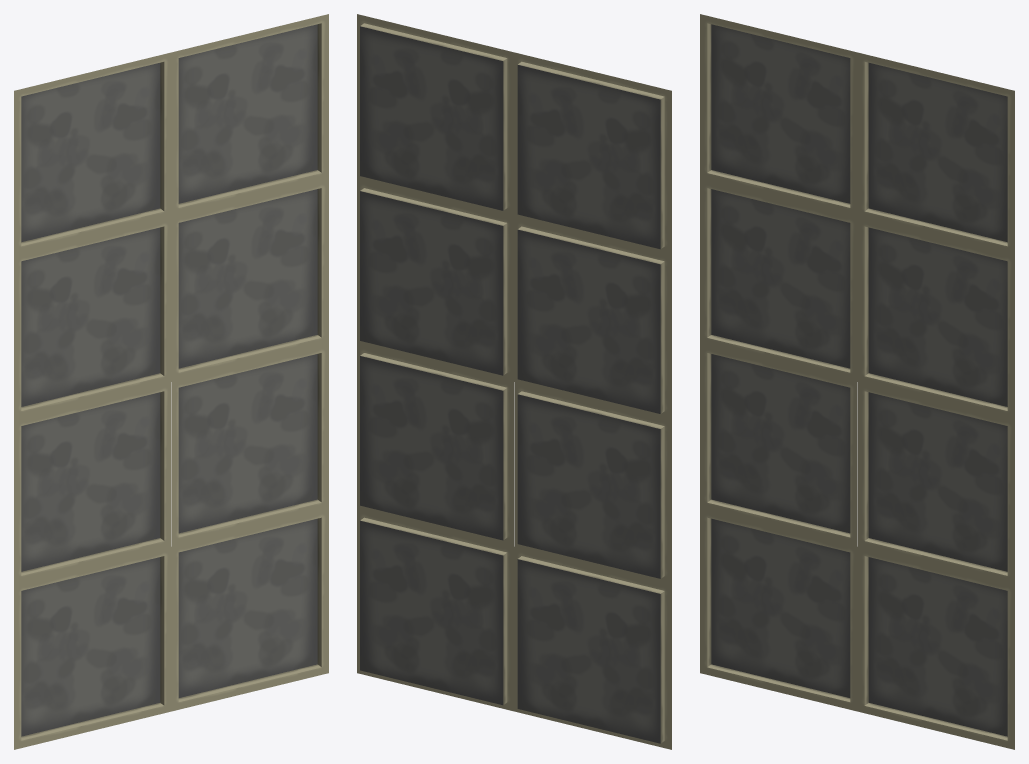
Rendered from TempleWall2x4.obj.
The picture shows the model from 3 angles, left to right: view 1: azimuth 30°, elevation 25°; view 2: azimuth 150°, elevation 25°; view 3: azimuth 330°, elevation 25°; orthographic projection.
Visible parts, largest first — view 1: 2x4; view 2: 2x4; view 3: 2x4.
Boxes of the visible parts, x1=… form: 2x4: x1=14, y1=14, x2=328, y2=749; 2x4: x1=357, y1=14, x2=671, y2=749; 2x4: x1=700, y1=14, x2=1014, y2=749.
Bounding box in the file's own units: 44 × 88 × 1.
Materials: 1 (1 with a texture image).
